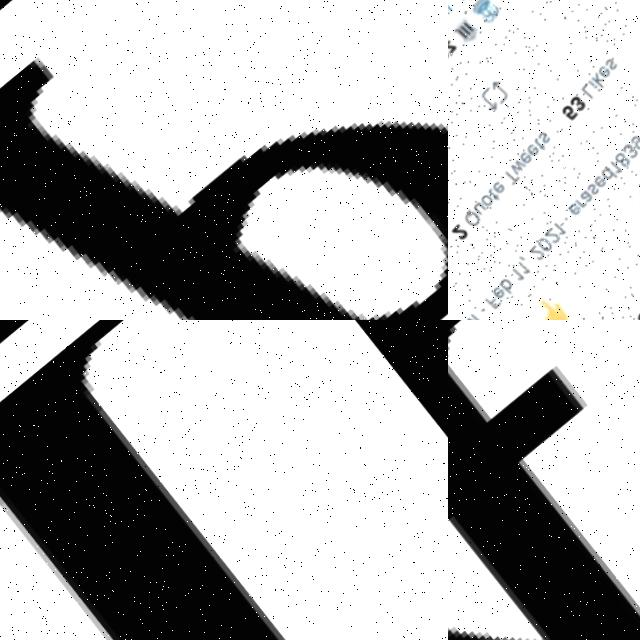0: (541, 234, 563, 256)
1: (519, 258, 542, 280), (554, 218, 576, 241), (515, 265, 536, 287), (612, 160, 632, 179)
2: (455, 221, 479, 246), (534, 244, 555, 266), (549, 227, 569, 248)
3: (571, 93, 596, 118), (625, 140, 640, 164)
5: (563, 101, 586, 125)
8: (617, 150, 639, 172)
9: (631, 132, 640, 156)
P: (0, 57, 448, 320)
